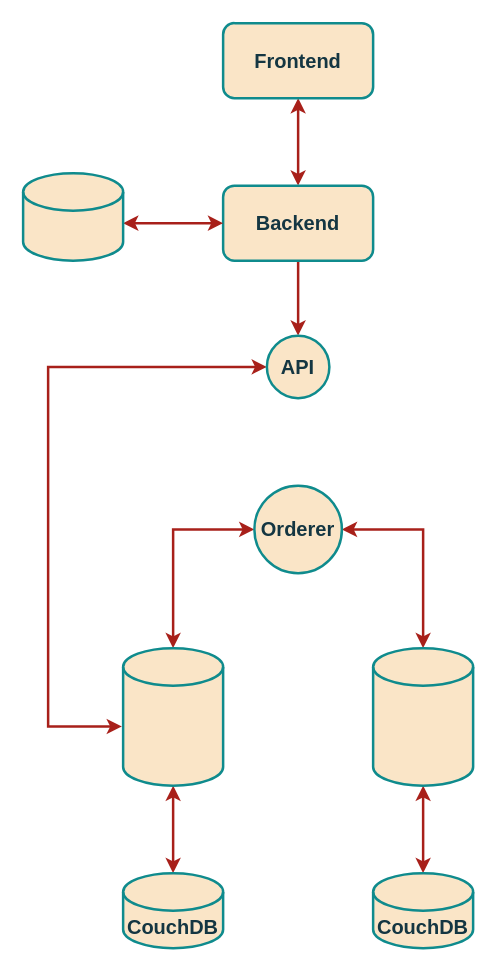
The diagram is 495 pixels wide and 970 high, and some of its shapes have lost their labels. Here are the shapes that lost their labels. From the top down, the centre of each, then its label:
At (72,216): "MySQL".
At (172,716): "Peer 1".
At (422,716): "Peer 2".
